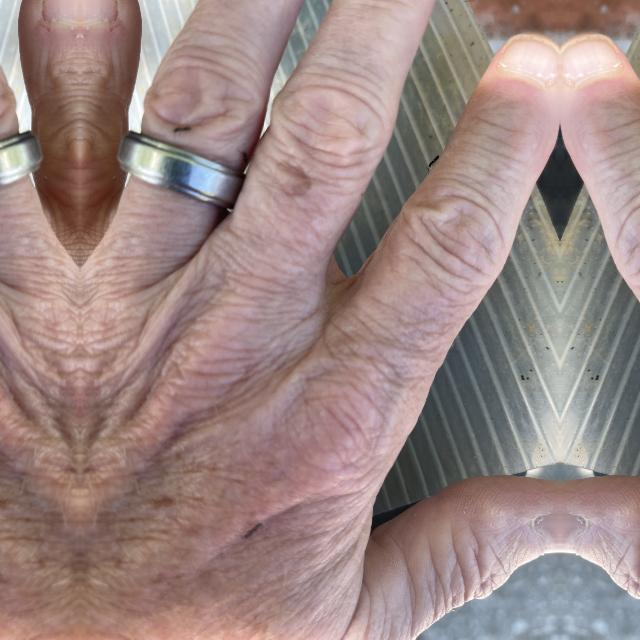Tapinoma: (242, 515, 264, 539), (426, 147, 442, 171), (172, 118, 192, 136)
